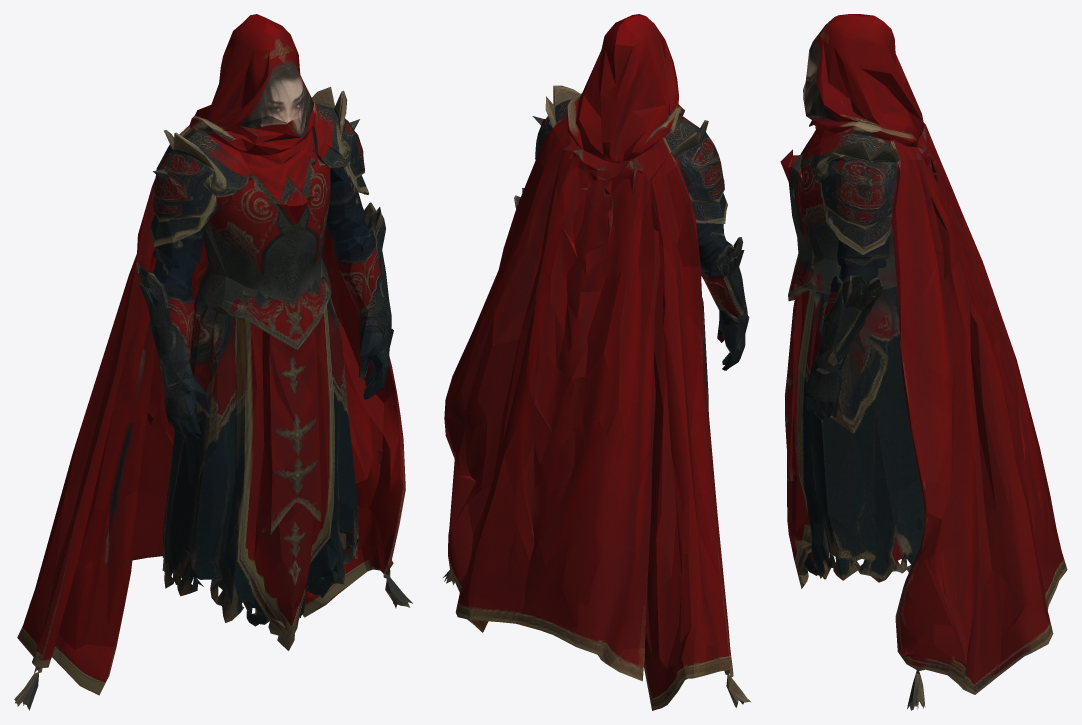
Rendered from part-cape.glb.
3 renders of one model, left to right at view 1: azimuth 30°, elevation 25°; view 2: azimuth 150°, elevation 25°; view 3: azimuth 270°, elevation 25°, orthographic. The views are drawn at different scales.
Size of the model in its own units: 1.05 by 1.9 by 0.7432.
1 material, 1 textured.
